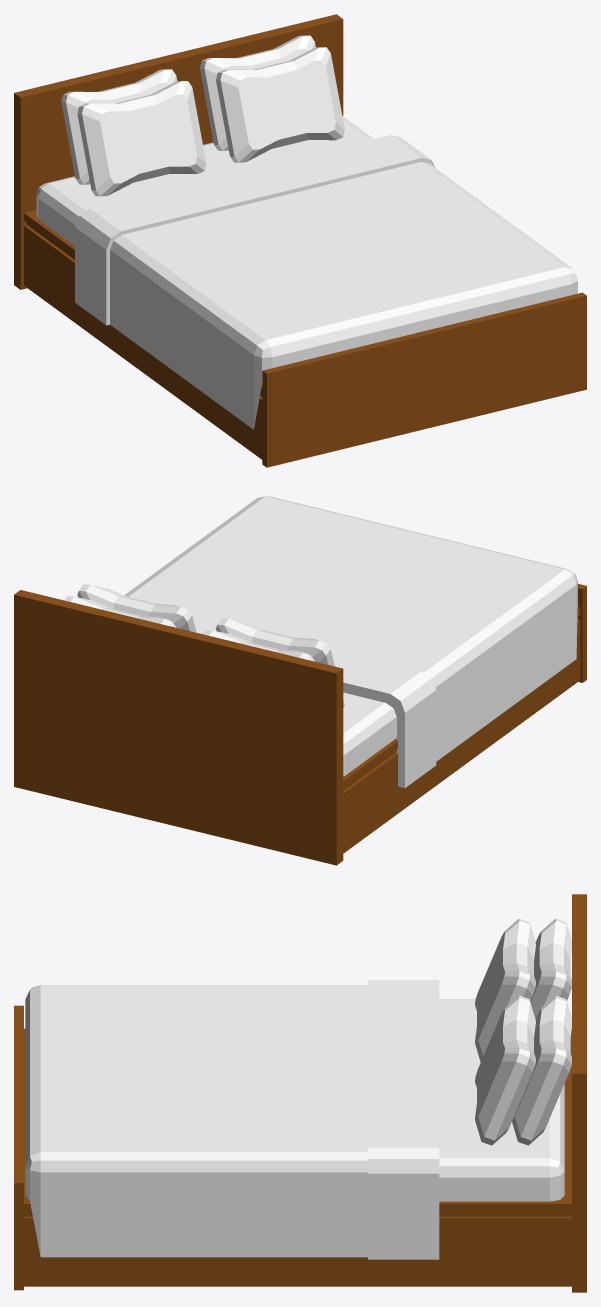
Rendered from Bed.glb.
3 renders of one model, top to bottom at view 1: azimuth 30°, elevation 25°; view 2: azimuth 150°, elevation 25°; view 3: azimuth 270°, elevation 25°, orthographic. The views are drawn at different scales.
Visible parts, largest first — view 1: Bed; view 2: Bed; view 3: Bed.
Boxes of the visible parts, bbox=[...] form: Bed: bbox=[14, 14, 586, 467]; Bed: bbox=[14, 496, 586, 865]; Bed: bbox=[14, 894, 586, 1292].
Size of the model in its own units: 3.69 by 2.06 by 4.88.
